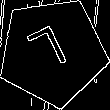L_SE: (27, 22, 78, 81)
